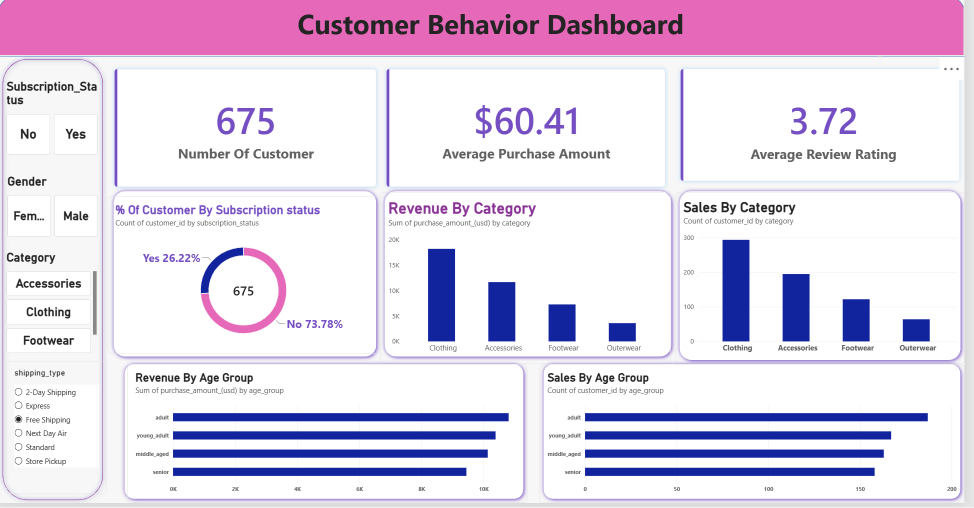

Layout of this report page (visuals, bound fields, positions):
{"tool":"powerbi","page":{"name":"Page 1","canvas":[2100,1100],"ordinal":0},"visuals":[{"type":"cardVisual","fields":{"Data":["public sales_data.number of customer"]},"box":[241.1,146.6,591.5,278.3],"z":0},{"type":"cardVisual","fields":{"Data":["public sales_data.average purchase amount"]},"box":[832.5,146.6,628.8,278.3],"z":1000},{"type":"cardVisual","fields":{"Data":["public sales_data.average review rating"]},"box":[1471.2,146.6,628.8,265.9],"z":2000},{"type":"shape","box":[0,0,2100,129.2],"z":3000},{"type":"textbox","box":[0,127.4,1920,2.3],"z":4000},{"type":"shape","box":[241.1,412.5,589,377.8],"z":5000},{"type":"donutChart","title":"% Of Customer By Subscription status","fields":{"Category":["public sales_data.subscription_status"],"Y":["CountNonNull(public sales_data.customer_id)"]},"box":[237,432.6,591.5,343],"z":6000},{"type":"textbox","box":[42.2,17.4,2057.8,79.5],"z":7000},{"type":"shape","box":[830.1,412.5,641.2,377.8],"z":8000},{"type":"shape","box":[1471.2,412.5,628.8,385.2],"z":9000},{"type":"clusteredColumnChart","title":"Revenue By Category","fields":{"Y":["Sum(public sales_data.purchase_amount_(usd))"],"Category":["public sales_data.category"]},"box":[830.1,425,631.2,372.8],"z":10000},{"type":"clusteredColumnChart","title":"Sales By Category","fields":{"Category":["public sales_data.category"],"Y":["CountNonNull(public sales_data.customer_id)"]},"box":[1471.2,425,628.8,372.8],"z":11000},{"type":"shape","box":[0,126.7,236.1,976.7],"z":12000},{"type":"advancedSlicerVisual","fields":{"Values":["public sales_data.subscription_status"]},"box":[17.4,178.9,198.8,164],"z":13000},{"type":"advancedSlicerVisual","fields":{"Values":["public sales_data.gender"]},"box":[19.9,385.2,196.3,136.7],"z":14000},{"type":"advancedSlicerVisual","fields":{"Values":["public sales_data.category"]},"box":[17.4,549.2,196.3,226.2],"z":15000},{"type":"listSlicer","fields":{"Values":["public sales_data.shipping_type"]},"box":[17.4,790.3,218.7,288.3],"z":16000},{"type":"shape","box":[265.2,789.1,884.8,310.9],"z":17000},{"type":"clusteredBarChart","title":"Revenue By Age Group","fields":{"Y":["Sum(public sales_data.purchase_amount_(usd))"],"Category":["public sales_data.age_group"]},"box":[280.4,797.8,869.6,302.2],"z":18000},{"type":"shape","box":[1176.1,789.1,923.9,310.9],"z":19000},{"type":"clusteredBarChart","title":"Sales By Age Group","fields":{"Y":["CountNonNull(public sales_data.customer_id)"],"Category":["public sales_data.age_group"]},"box":[1176.1,797.8,923.9,302.2],"z":20000}]}

Visuals, with their boxes in screenshot pixels (x1, y1, x2, y2), scaled from the page's 2100x1100 canvas onto the 974x508 screenshot:
cardVisual - public sales_data.number of customer: <bbox>112, 68, 386, 196</bbox>
cardVisual - public sales_data.average purchase amount: <bbox>386, 68, 678, 196</bbox>
cardVisual - public sales_data.average review rating: <bbox>682, 68, 973, 190</bbox>
shape: <bbox>0, 0, 973, 60</bbox>
textbox: <bbox>0, 59, 891, 60</bbox>
shape: <bbox>112, 190, 385, 365</bbox>
"% Of Customer By Subscription status" donutChart: <bbox>110, 200, 384, 358</bbox>
textbox: <bbox>20, 8, 973, 45</bbox>
shape: <bbox>385, 190, 682, 365</bbox>
shape: <bbox>682, 190, 973, 368</bbox>
"Revenue By Category" clusteredColumnChart: <bbox>385, 196, 678, 368</bbox>
"Sales By Category" clusteredColumnChart: <bbox>682, 196, 973, 368</bbox>
shape: <bbox>0, 59, 110, 507</bbox>
advancedSlicerVisual - public sales_data.subscription_status: <bbox>8, 83, 100, 158</bbox>
advancedSlicerVisual - public sales_data.gender: <bbox>9, 178, 100, 241</bbox>
advancedSlicerVisual - public sales_data.category: <bbox>8, 254, 99, 358</bbox>
listSlicer - public sales_data.shipping_type: <bbox>8, 365, 110, 498</bbox>
shape: <bbox>123, 364, 533, 507</bbox>
"Revenue By Age Group" clusteredBarChart: <bbox>130, 368, 533, 507</bbox>
shape: <bbox>545, 364, 973, 507</bbox>
"Sales By Age Group" clusteredBarChart: <bbox>545, 368, 973, 507</bbox>
